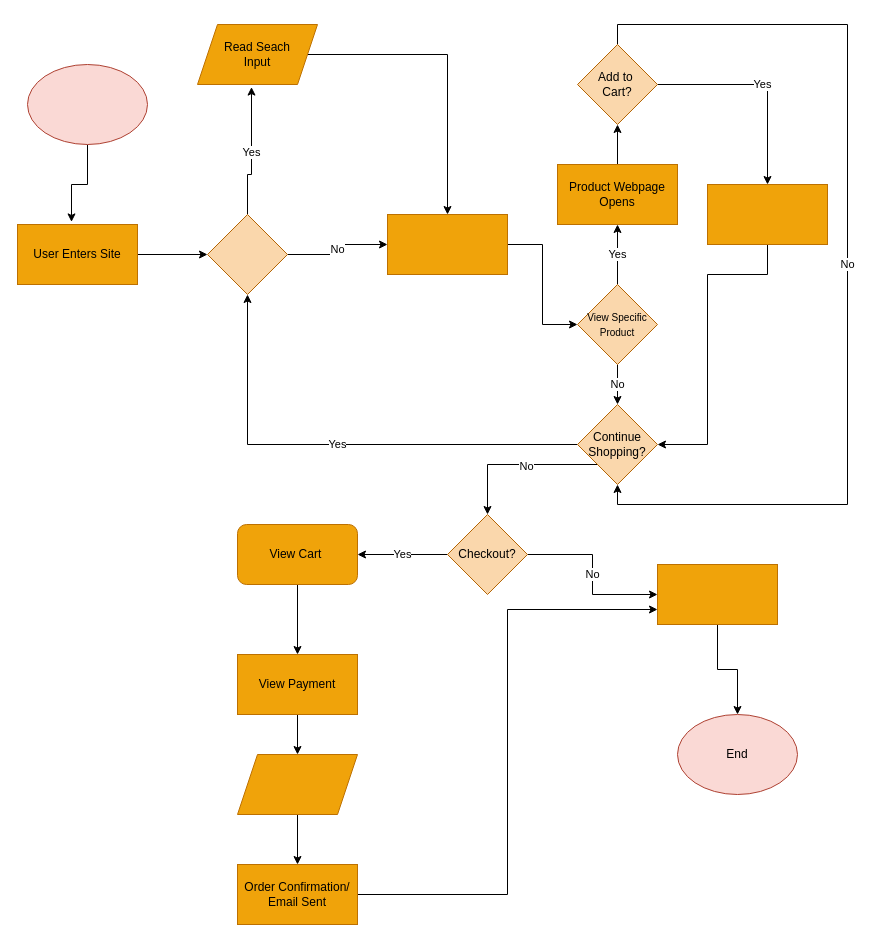
Some shapes in this 873 by 942 pixel diagram are drawn without their labels. The centre of each missing label's shape, as x and y in pixels:
"Add to Cart Confirmation" belongs at point 767,214.
"Leave Site" belongs at point 717,594.
"Look Over Products" belongs at point 447,244.
"Read Payment Information" belongs at point 297,784.
"Search for Product?" belongs at point 247,254.
"Start" belongs at point 87,104.
